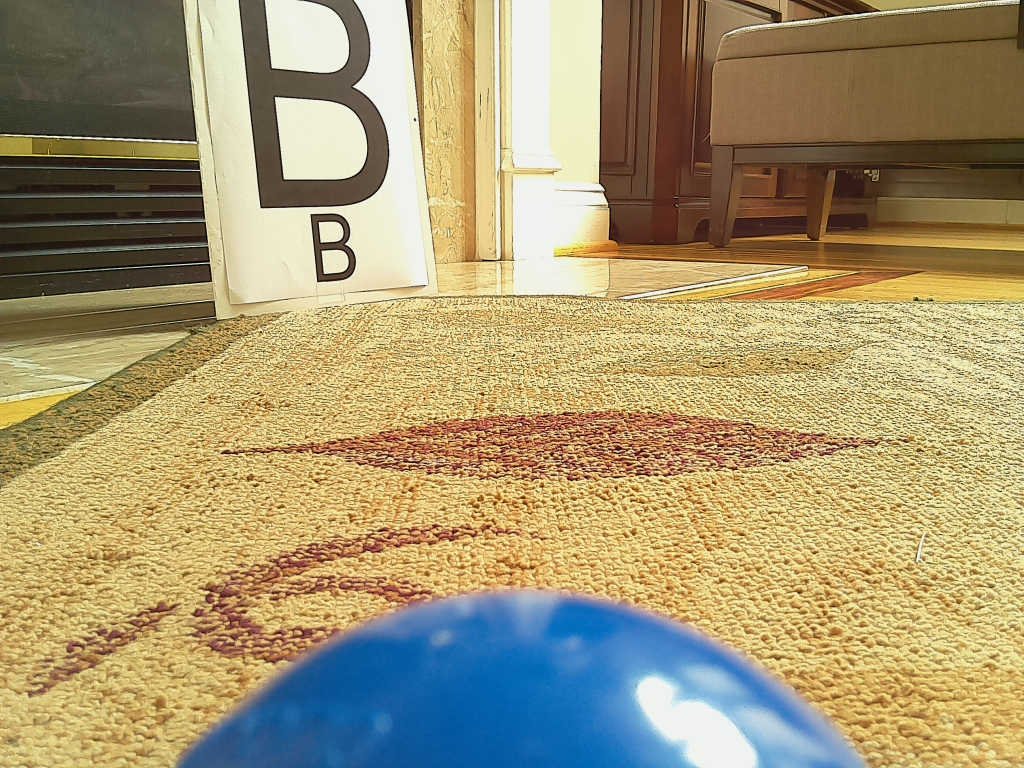letter: (239, 1, 391, 209)
